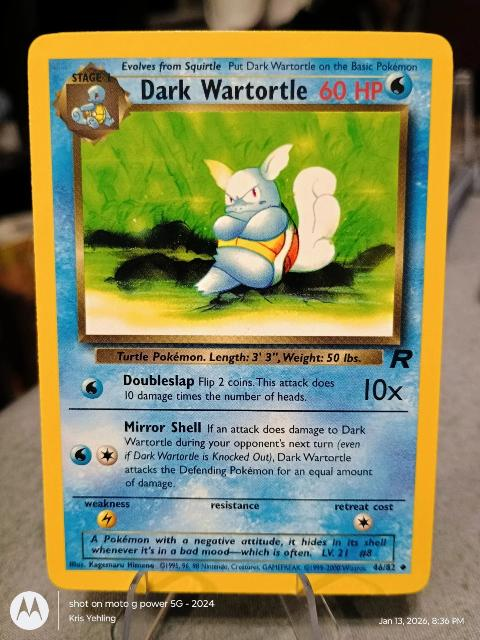Card: (21, 27, 460, 599)
Name: (132, 76, 312, 108)
